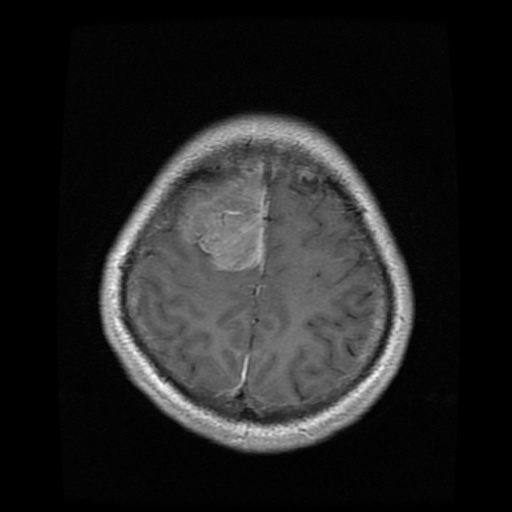meningioma: (178, 161, 268, 268)
